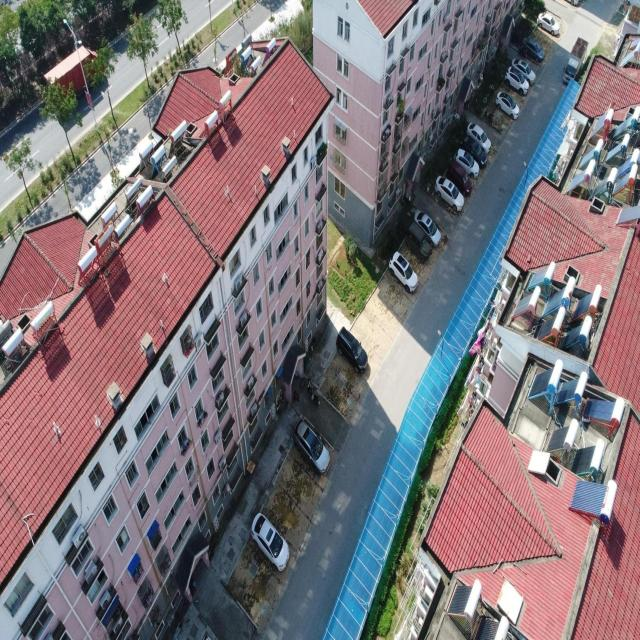p3rson: (294, 389, 300, 401), (299, 377, 305, 388), (307, 378, 311, 392)
